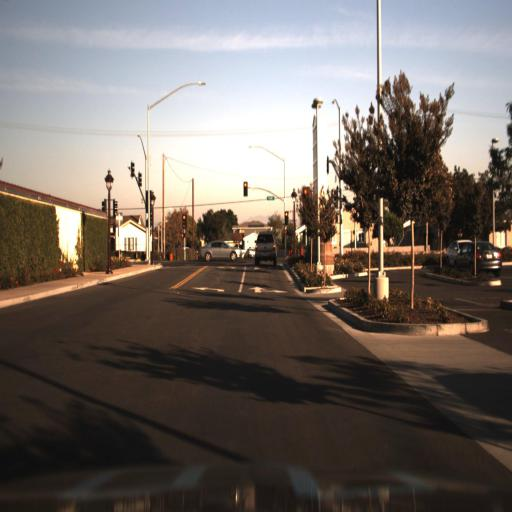car: (450, 234, 505, 277), (200, 236, 243, 263), (251, 227, 280, 262), (442, 237, 460, 275)
trafficLight-Red: (242, 179, 251, 199), (179, 214, 188, 233), (302, 181, 308, 200), (241, 177, 248, 192), (179, 212, 187, 224), (282, 207, 289, 220)
